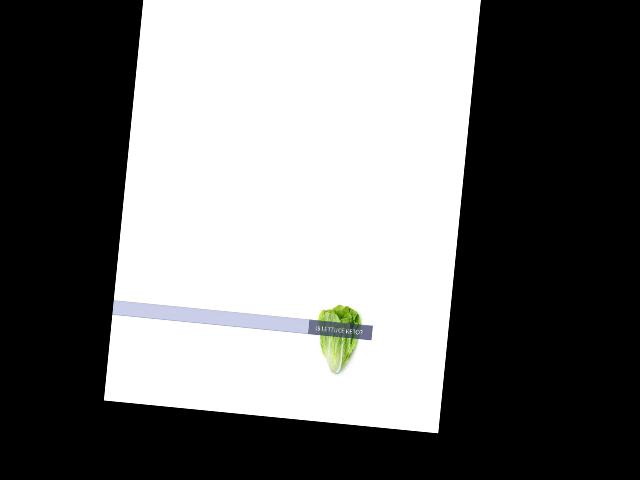lettuce: (310, 302, 366, 382)
